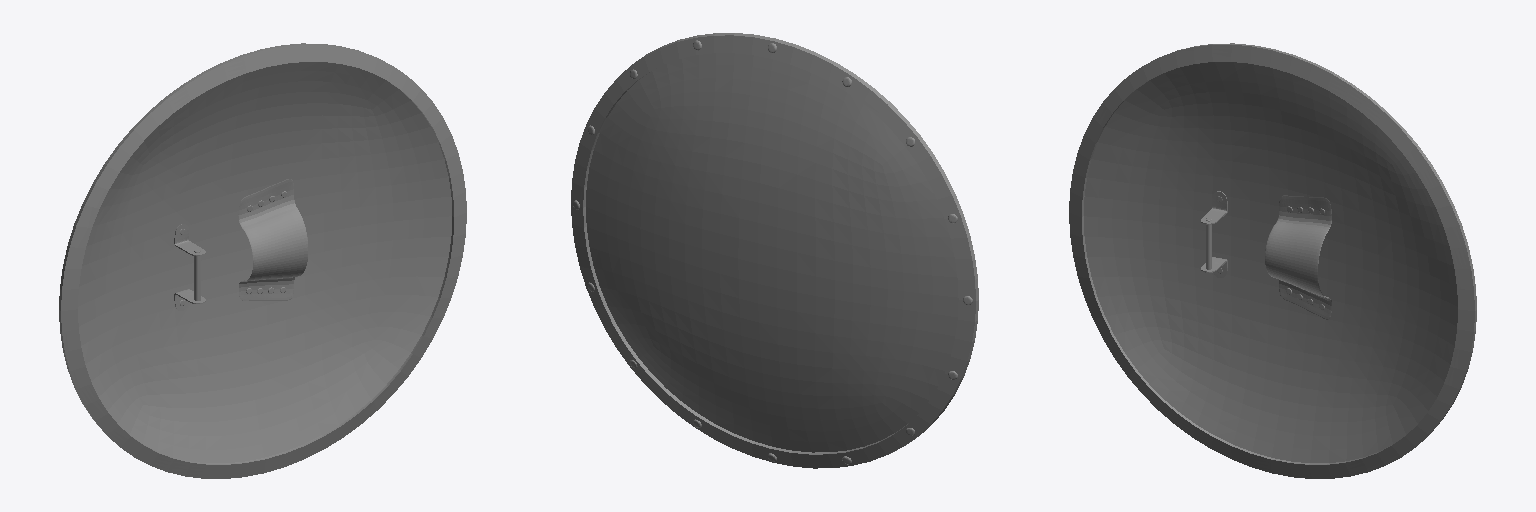
The model's file is Shield_LowPoly3.obj.
The picture shows the model from 3 angles: view 1: azimuth 30°, elevation 25°; view 2: azimuth 150°, elevation 25°; view 3: azimuth 330°, elevation 25°; orthographic projection.
Visible parts, largest first — view 1: Shield1, Holder; view 2: Shield1, Bolts; view 3: Shield1, Holder.
Part boxes in pixels (left/top/right/bottom): Shield1: left=59, top=43, right=466, bottom=478; Holder: left=174, top=179, right=307, bottom=310; Shield1: left=571, top=33, right=978, bottom=468; Bolts: left=573, top=40, right=972, bottom=464; Shield1: left=1069, top=43, right=1476, bottom=478; Holder: left=1201, top=191, right=1331, bottom=319.
Size of the model in its own units: 92.41 by 92.01 by 8.15.